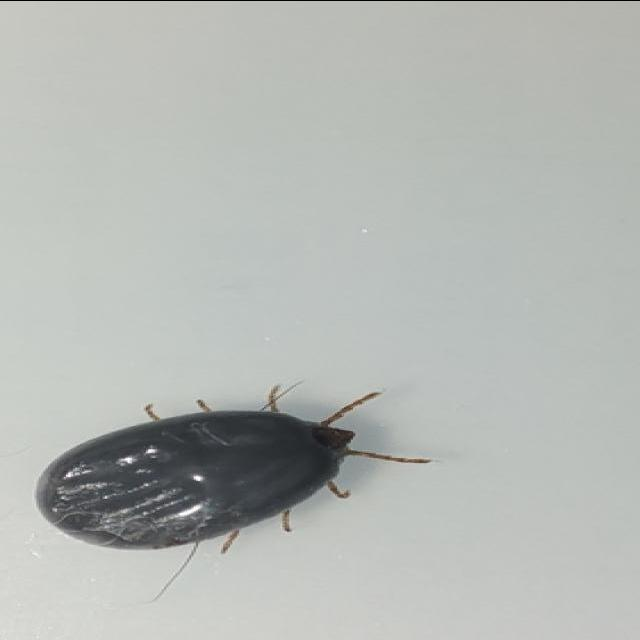Rhipicephalus Sanguineus-F-Fed: (34, 385, 433, 552)
